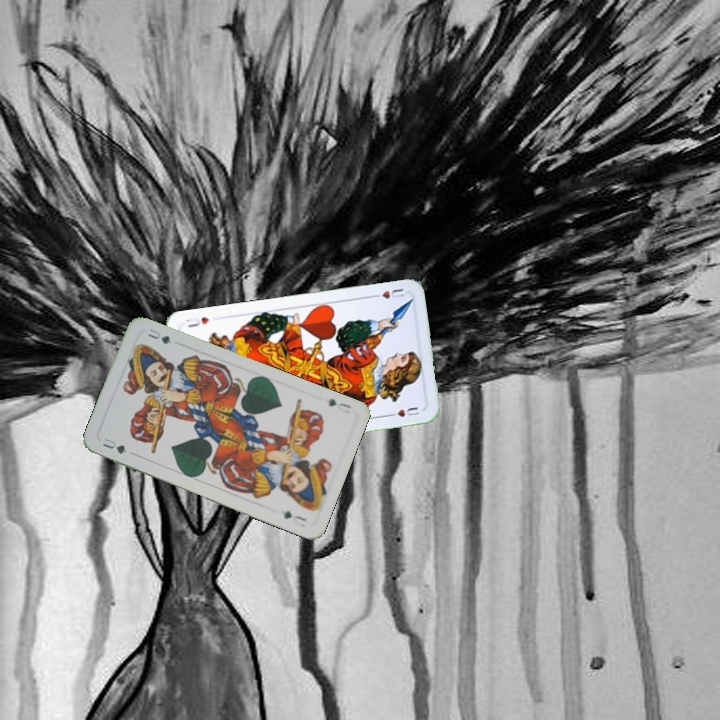GU: (99, 434, 130, 457), (324, 394, 353, 416)
HU: (367, 284, 407, 302)
